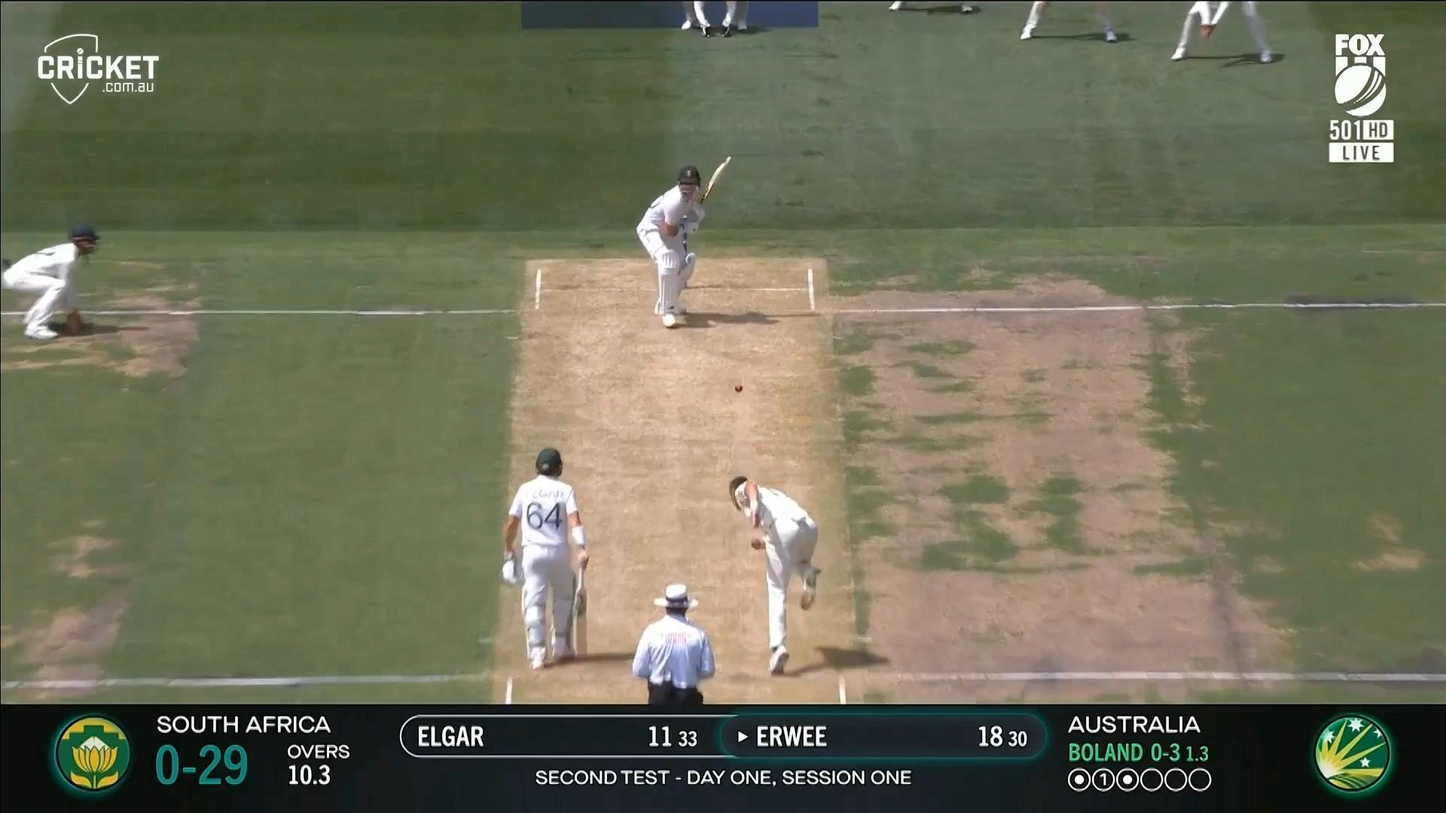BM 1: (635, 153, 734, 331)
BO: (728, 474, 825, 677)
